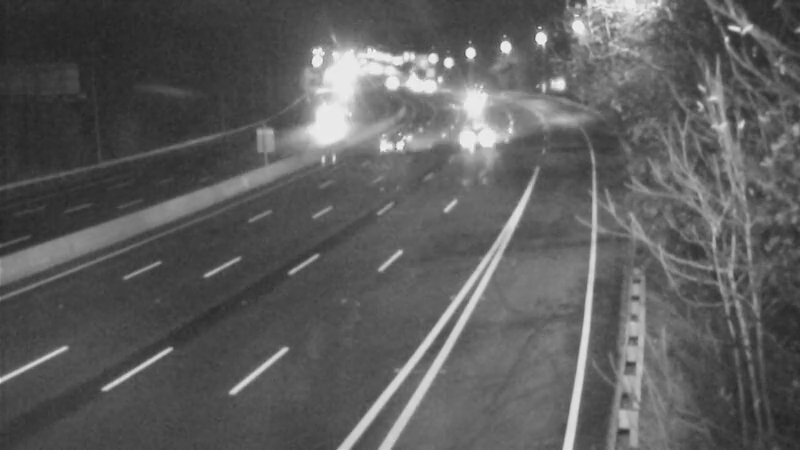vehicle: (450, 67, 500, 117), (445, 83, 495, 133), (450, 115, 500, 165), (370, 108, 420, 158), (301, 103, 351, 153)
